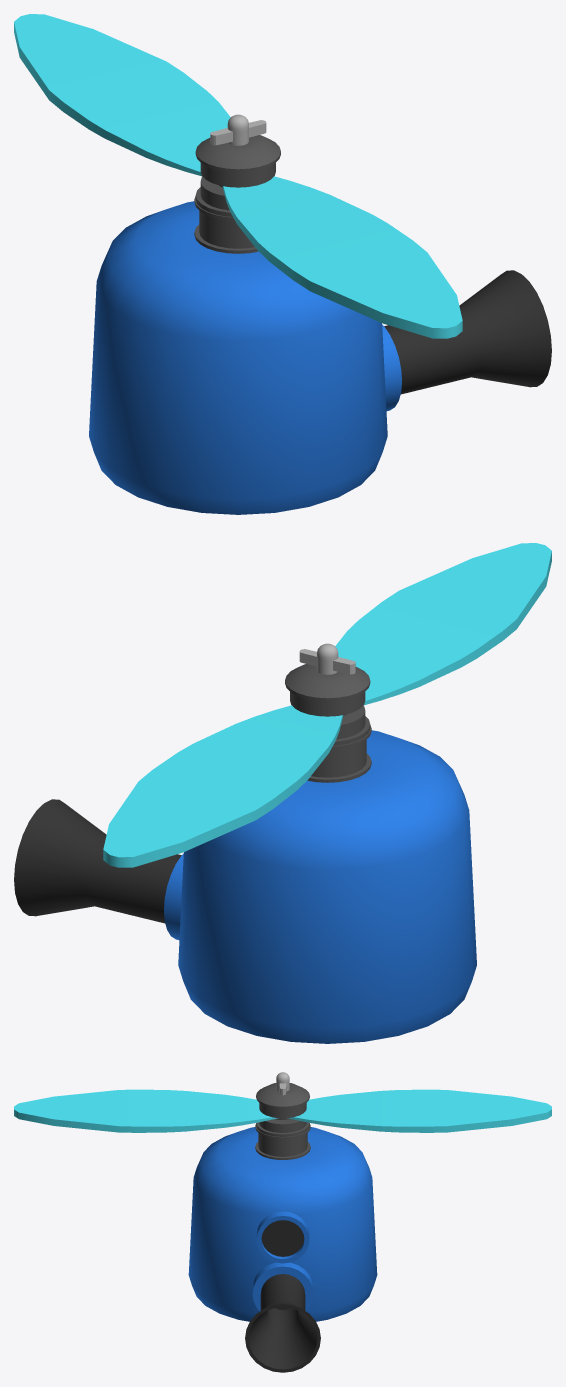
Rendered from Drone.fbx.
The picture shows the model from 3 angles, top to bottom: view 1: azimuth 30°, elevation 25°; view 2: azimuth 150°, elevation 25°; view 3: azimuth 270°, elevation 25°; orthographic projection. The views are drawn at different scales.
Parts seen in each view (by area): view 1: Base, Helice; view 2: Base, Helice; view 3: Base, Helice.
Boxes of the visible parts, x1=… form: Base: x1=89, y1=135, x2=551, y2=514; Helice: x1=14, y1=14, x2=462, y2=338; Base: x1=14, y1=664, x2=476, y2=1043; Helice: x1=103, y1=543, x2=551, y2=867; Base: x1=188, y1=1083, x2=377, y2=1372; Helice: x1=14, y1=1072, x2=551, y2=1159.
Bounding box in the file's own units: 344 × 276 × 616.
